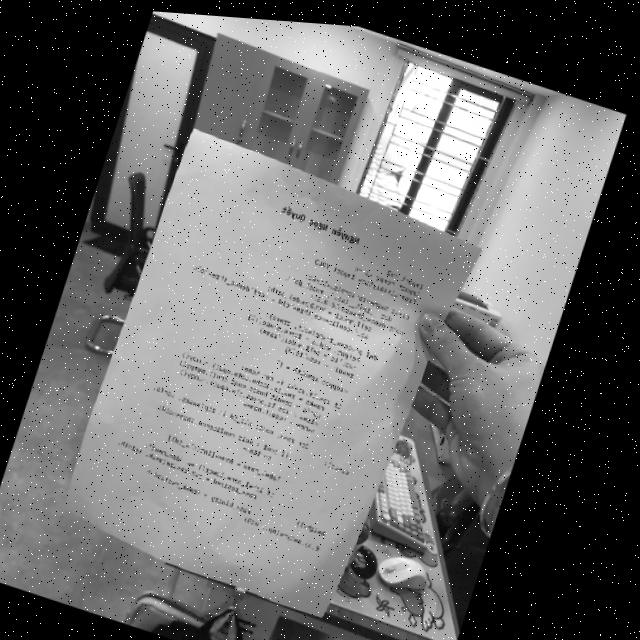document: (62, 128, 482, 618)
